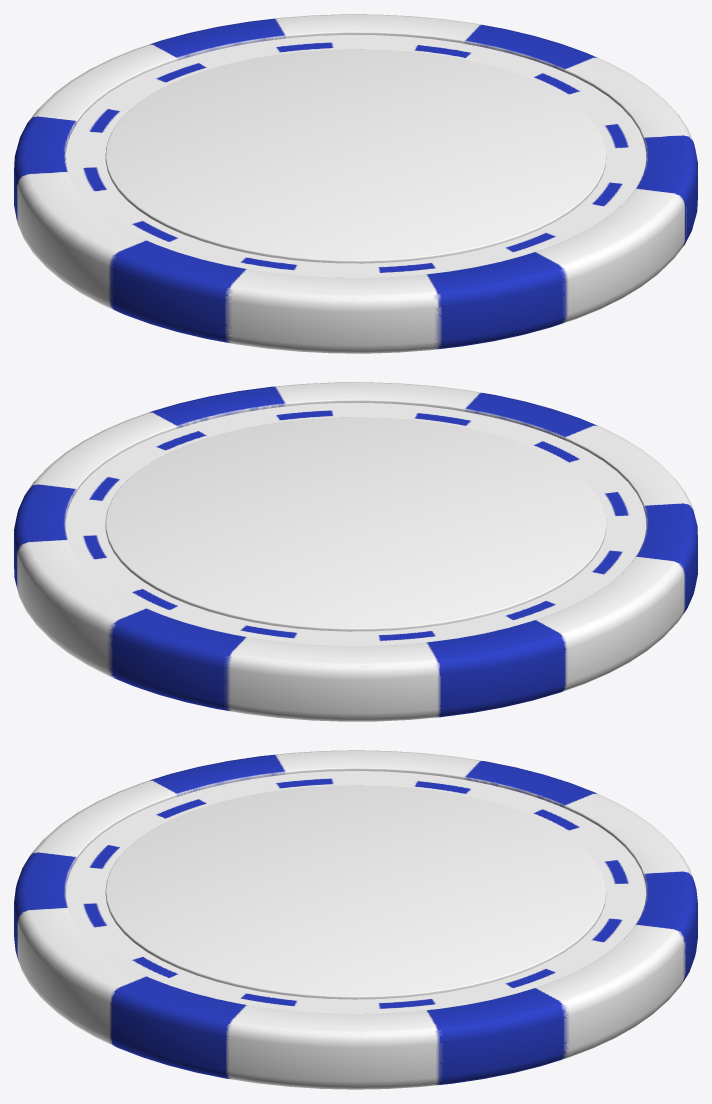
Rendered from white_chip.glb.
The picture shows the model from 3 angles, top to bottom: view 1: azimuth 30°, elevation 25°; view 2: azimuth 150°, elevation 25°; view 3: azimuth 270°, elevation 25°; orthographic projection.
Visible parts, largest first — view 1: chips.447_chips_white_bake_0; view 2: chips.447_chips_white_bake_0; view 3: chips.447_chips_white_bake_0.
Part boxes in pixels (x1,y1,x2,y2): chips.447_chips_white_bake_0: [14, 14, 697, 353]; chips.447_chips_white_bake_0: [14, 382, 697, 721]; chips.447_chips_white_bake_0: [14, 750, 697, 1089].
Size of the model in its own units: 2 by 0.1882 by 2.
1 material, 1 textured.
